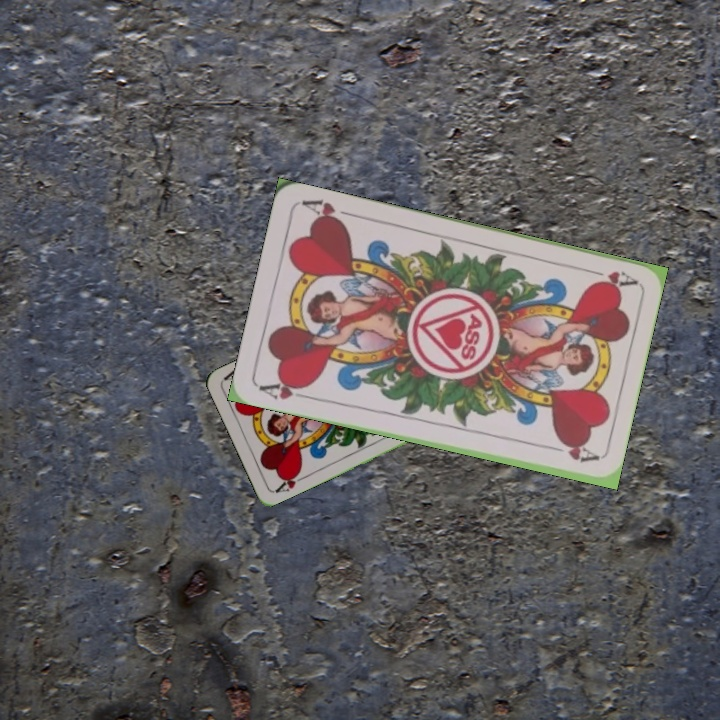HA: (255, 375, 314, 403), (580, 264, 639, 291), (271, 467, 309, 496)
